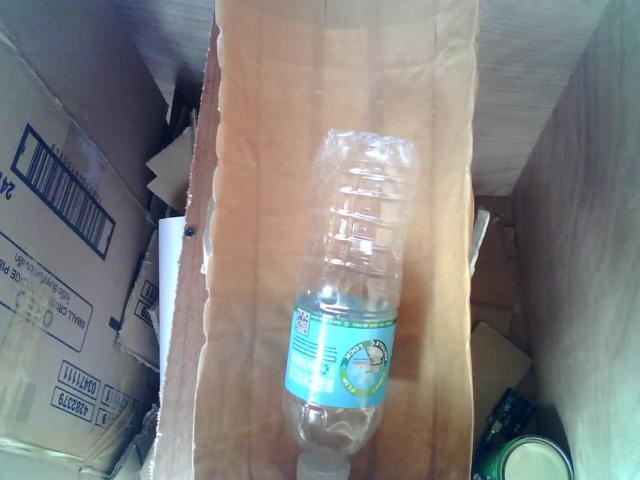small_bottle: (259, 105, 430, 480)
